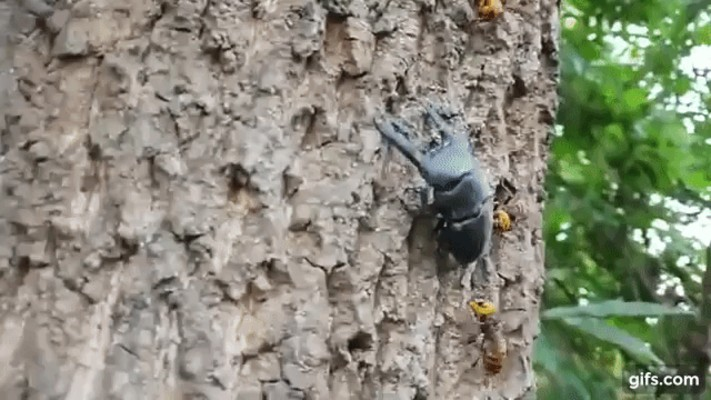asian_giant_hornet: (461, 292, 514, 377), (490, 201, 516, 241), (478, 1, 507, 19)
